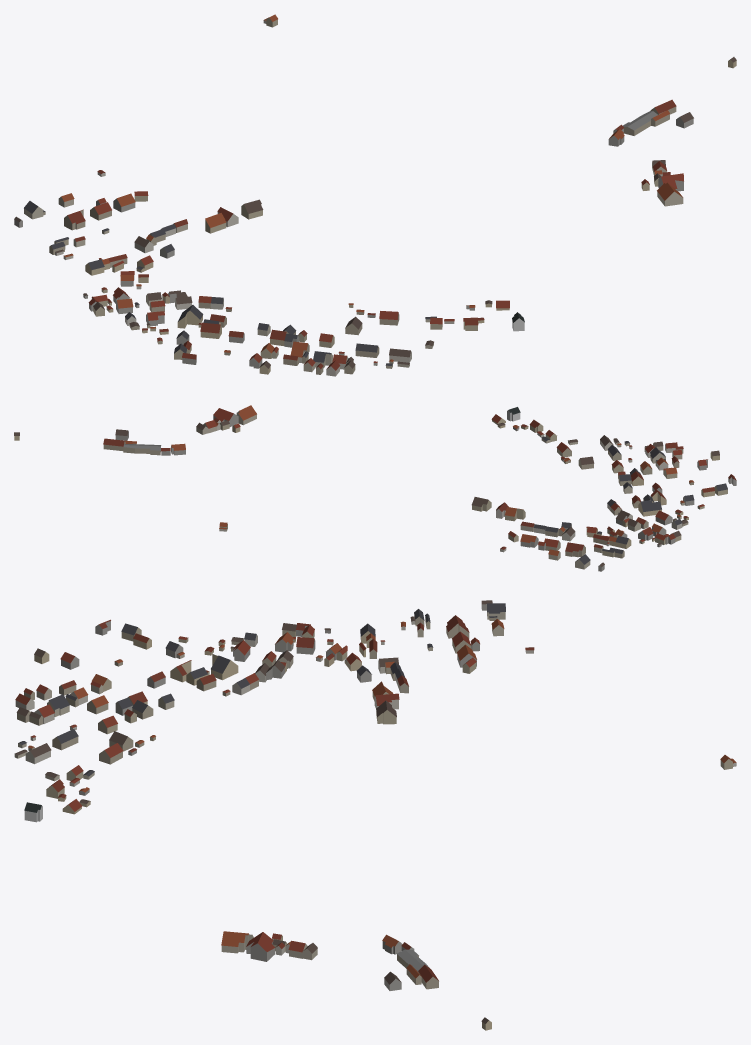
3 renders of one model, top to bottom at view 1: azimuth 30°, elevation 25°; view 2: azimuth 150°, elevation 25°; view 3: azimuth 270°, elevation 25°, orthographic. The views are drawn at different scales.
Parts seen in each view (by area): view 1: buildings; view 2: buildings; view 3: buildings.
Boxes of the visible parts, x1=… form: buildings: x1=14, y1=14, x2=736, y2=376; buildings: x1=14, y1=405, x2=736, y2=571; buildings: x1=14, y1=600, x2=736, y2=1030.
Bounding box in the file's own units: 778 × 86.25 × 579.
